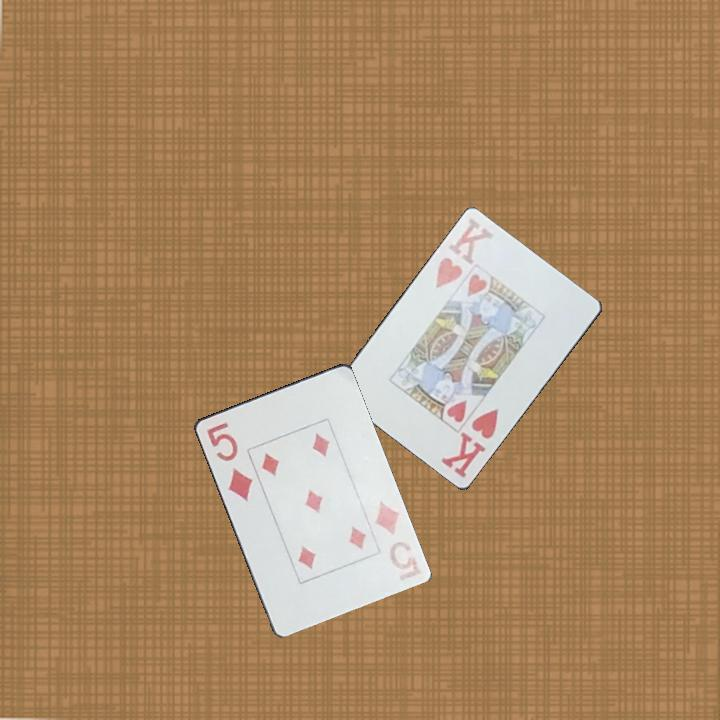5d: (203, 419, 257, 504), (371, 497, 417, 573)
Kh: (431, 215, 497, 292), (437, 404, 502, 481)
